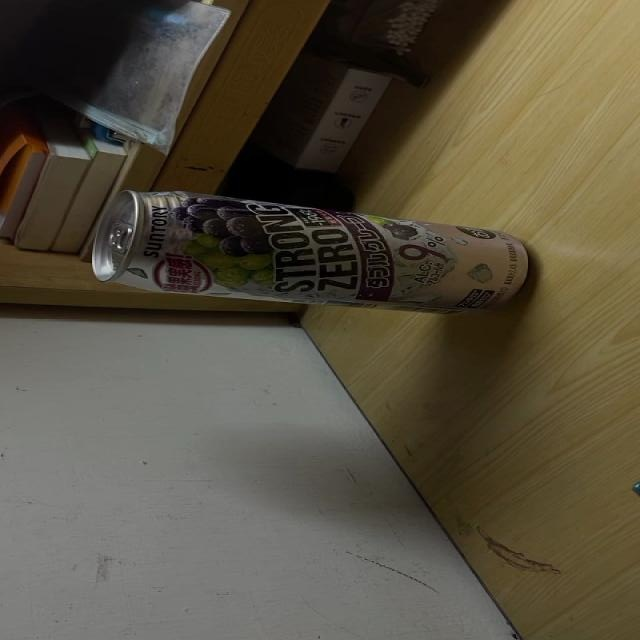Liquor: (91, 190, 528, 318)
